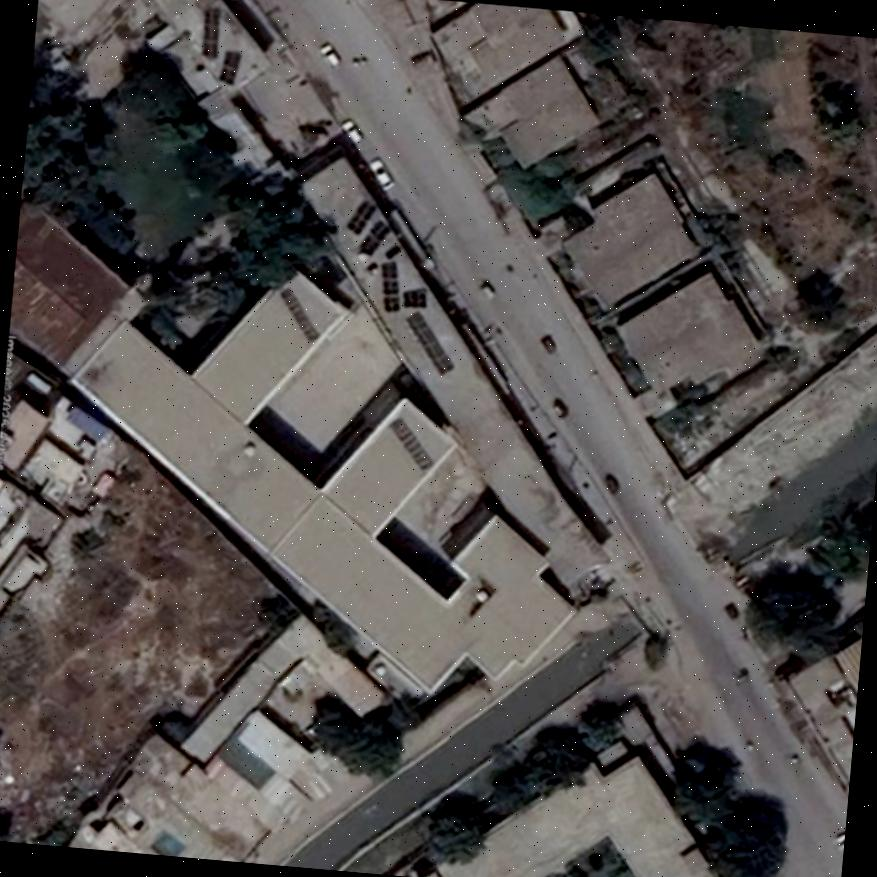Solarpanel: (403, 314, 450, 374), (389, 419, 436, 470), (277, 289, 316, 337), (357, 220, 390, 256), (380, 261, 399, 311), (200, 8, 218, 57), (346, 199, 370, 234), (222, 48, 240, 85)
